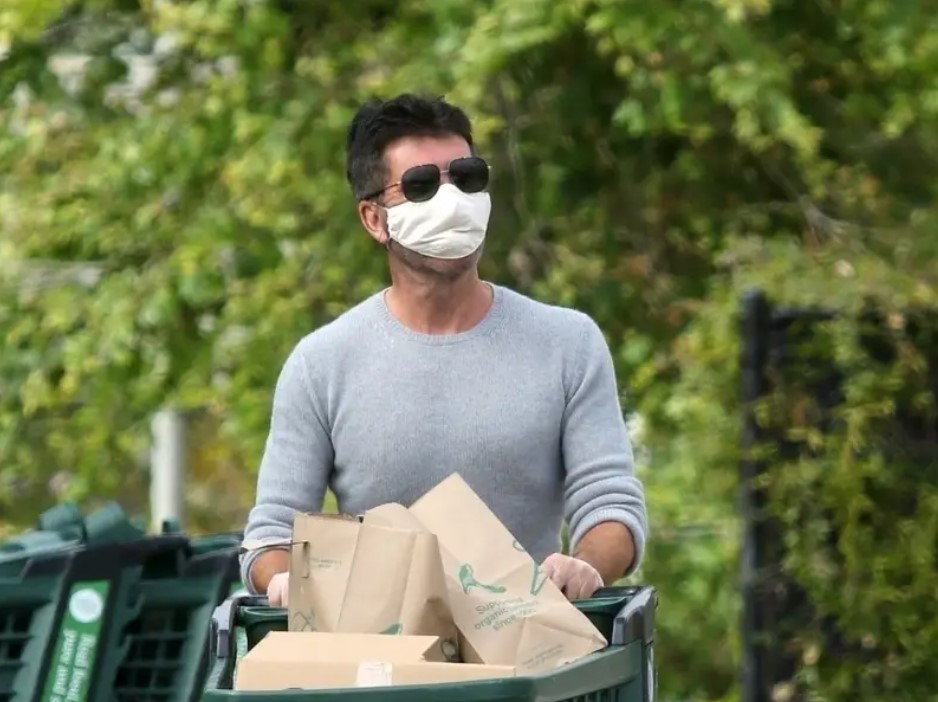face_with_mask: (344, 98, 498, 280)
